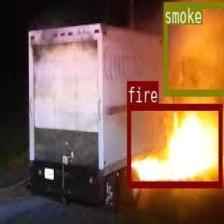fire: (127, 103, 222, 186)
smoke: (163, 1, 224, 95)
